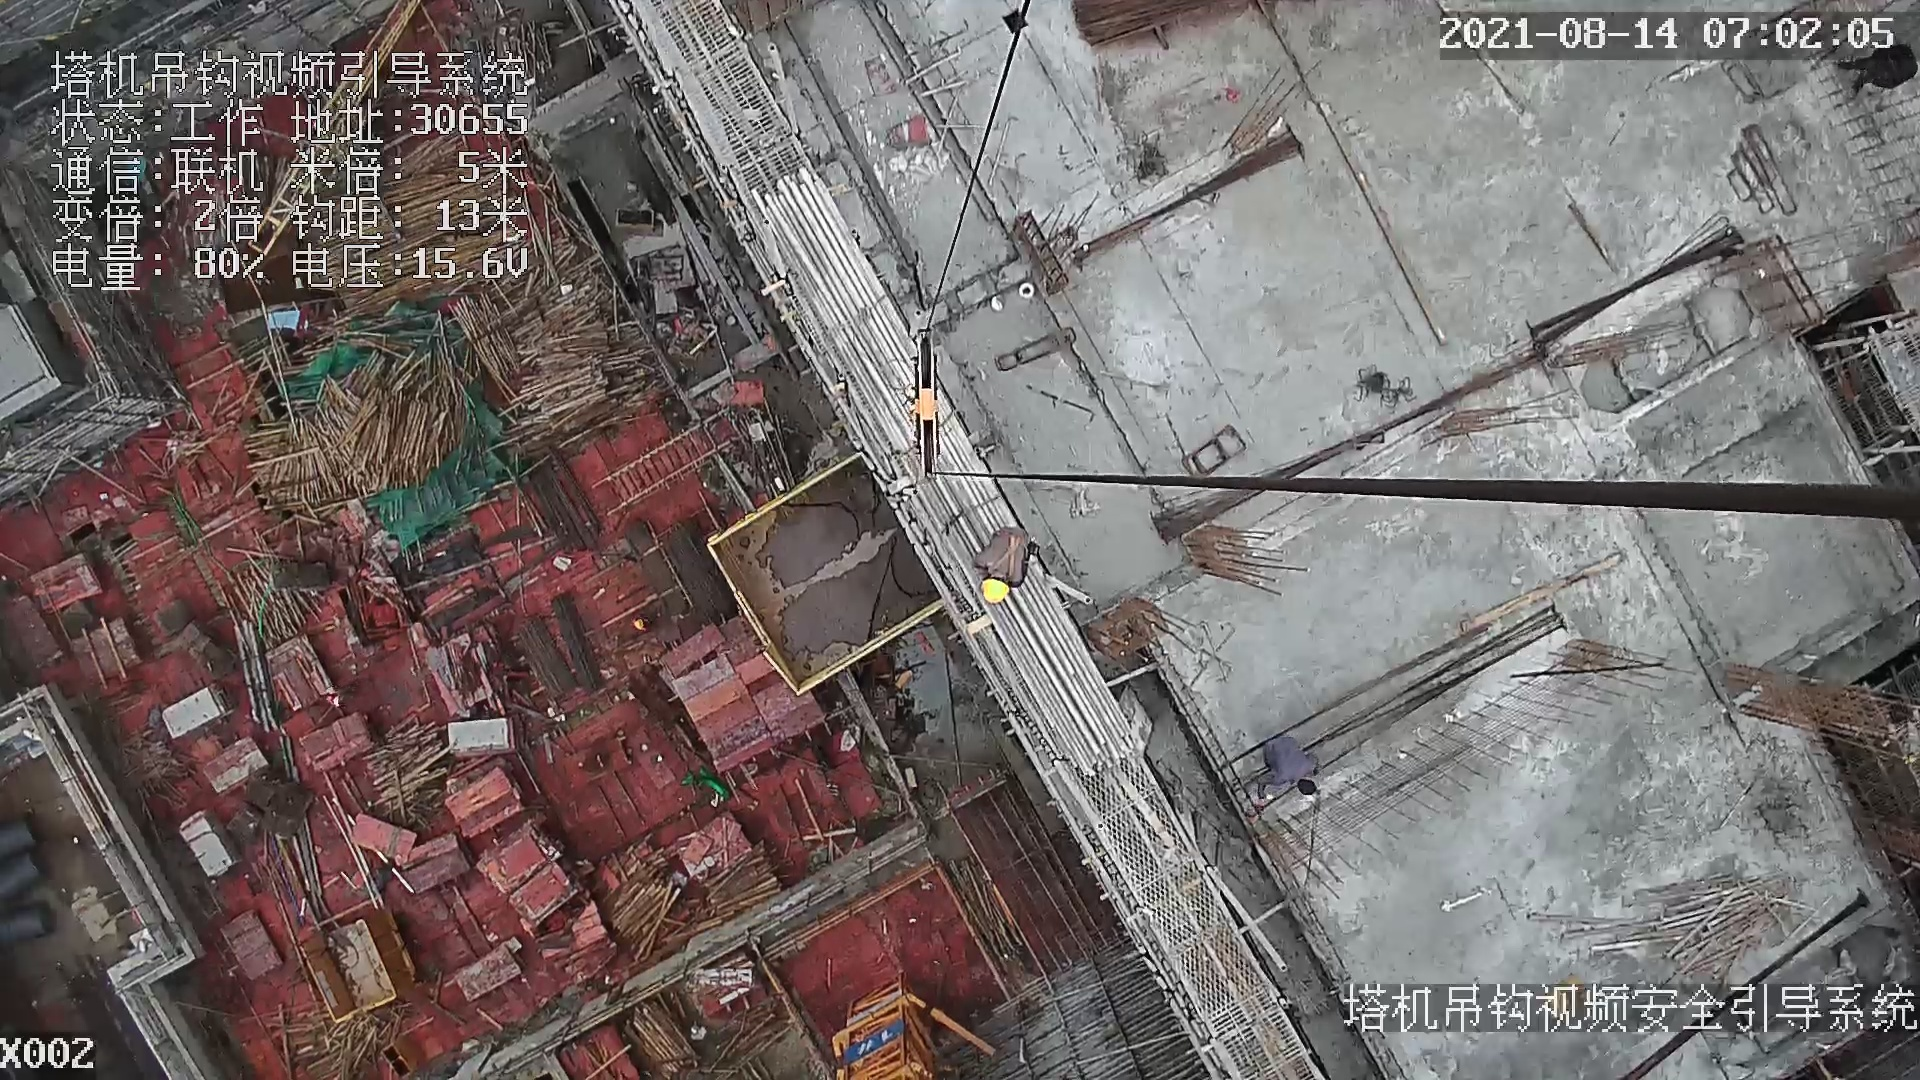helmet: (976, 571, 1020, 603)
hook: (903, 330, 946, 477)
person: (968, 527, 1038, 608), (1255, 736, 1320, 806)
